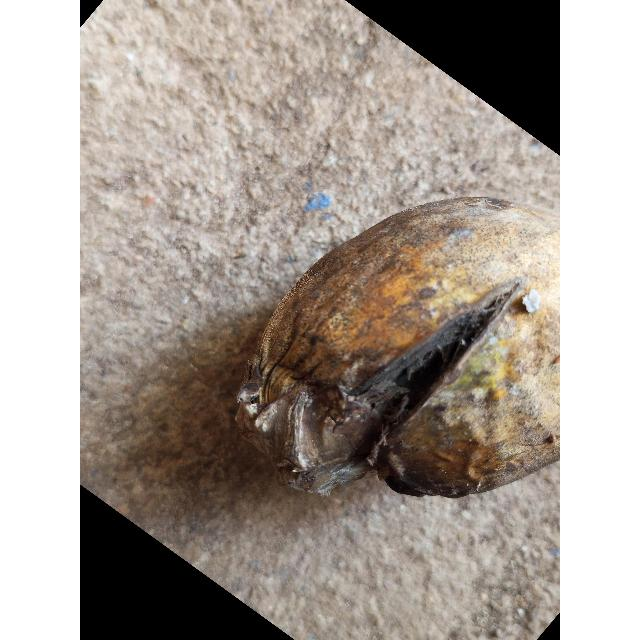damaged: (236, 198, 560, 498)
